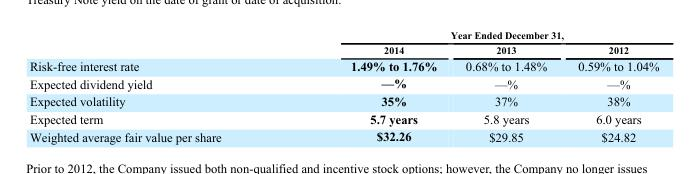table: (28, 28, 658, 143)
table column: (28, 28, 285, 143), (285, 28, 450, 143), (450, 28, 561, 143), (561, 28, 658, 143)
table column header: (28, 28, 658, 74)
table row: (28, 41, 658, 74), (28, 74, 658, 92), (28, 109, 658, 127), (28, 92, 658, 109), (28, 127, 658, 143), (28, 28, 658, 41)
table spanning cell: (28, 28, 285, 74), (285, 28, 658, 41)
